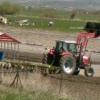Tractor: (39, 31, 100, 77)
